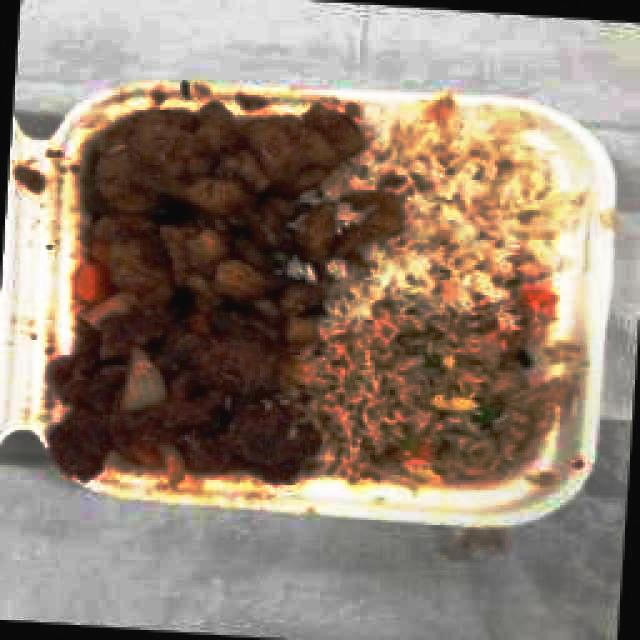Beijing Beef: (91, 97, 346, 315), (64, 290, 302, 467)
Fried Rice: (323, 316, 525, 474)
rice: (377, 131, 557, 290)
